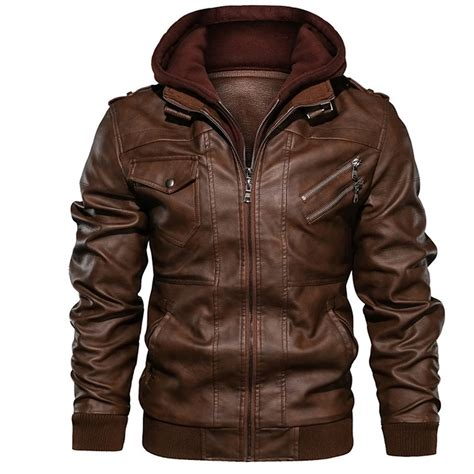cuero: (68, 5, 441, 461)
